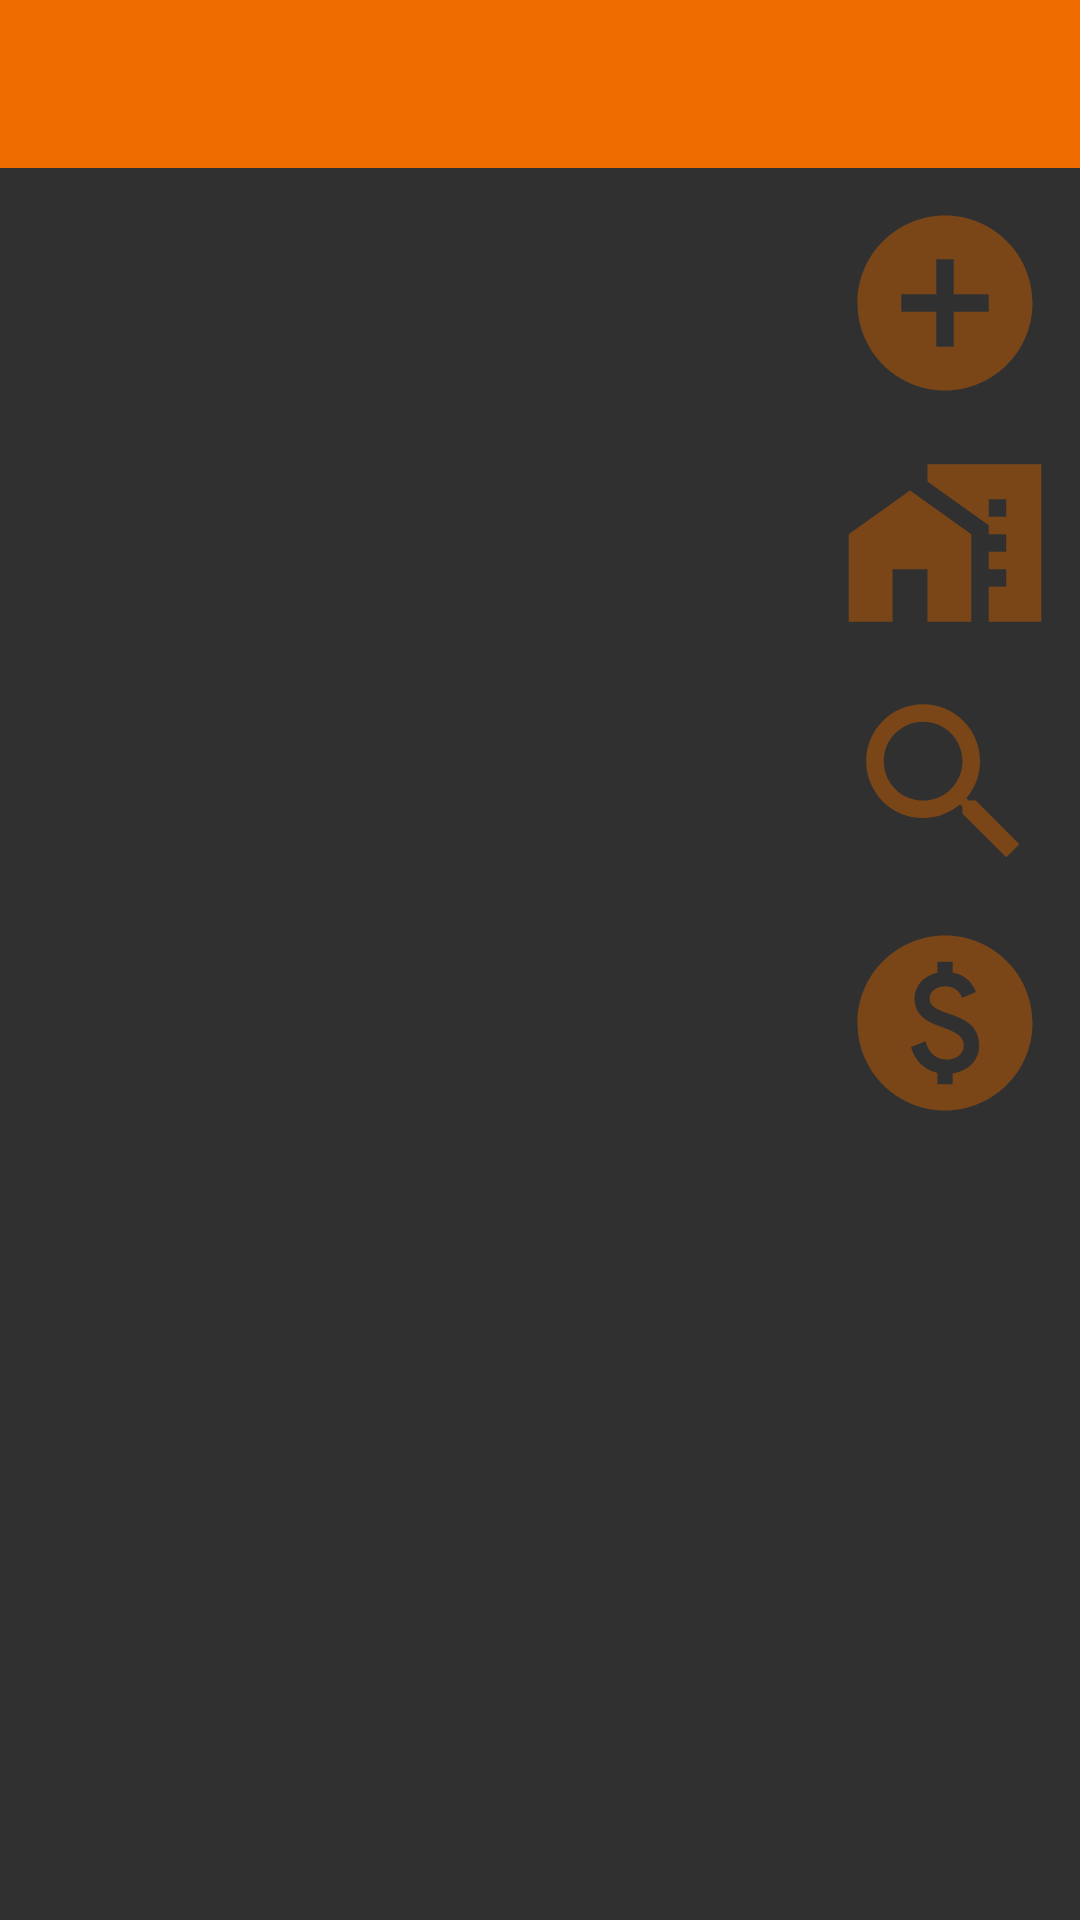

Icon bounding boxes for this 1080×1920 phone screenshot, format box=[x1, y1, x2, y2]:
add circle: box=[857, 215, 1033, 391]
search: box=[866, 704, 1019, 857]
